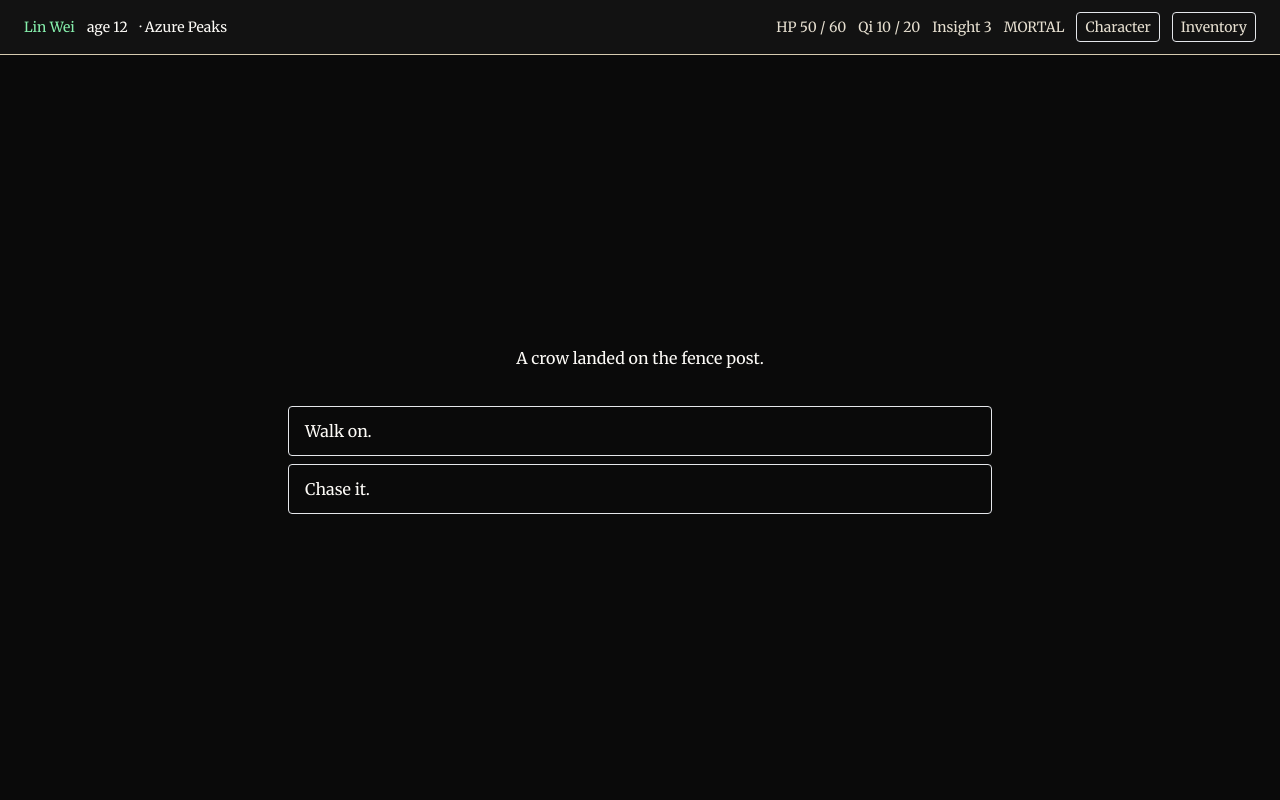
Scenario: Phase 2B-3: PlayScreen overlay toggles › toggles character sheet visibility via header button
Click the button "Character" at (1118, 27), box x1=1076 y1=12 x2=1160 y2=42
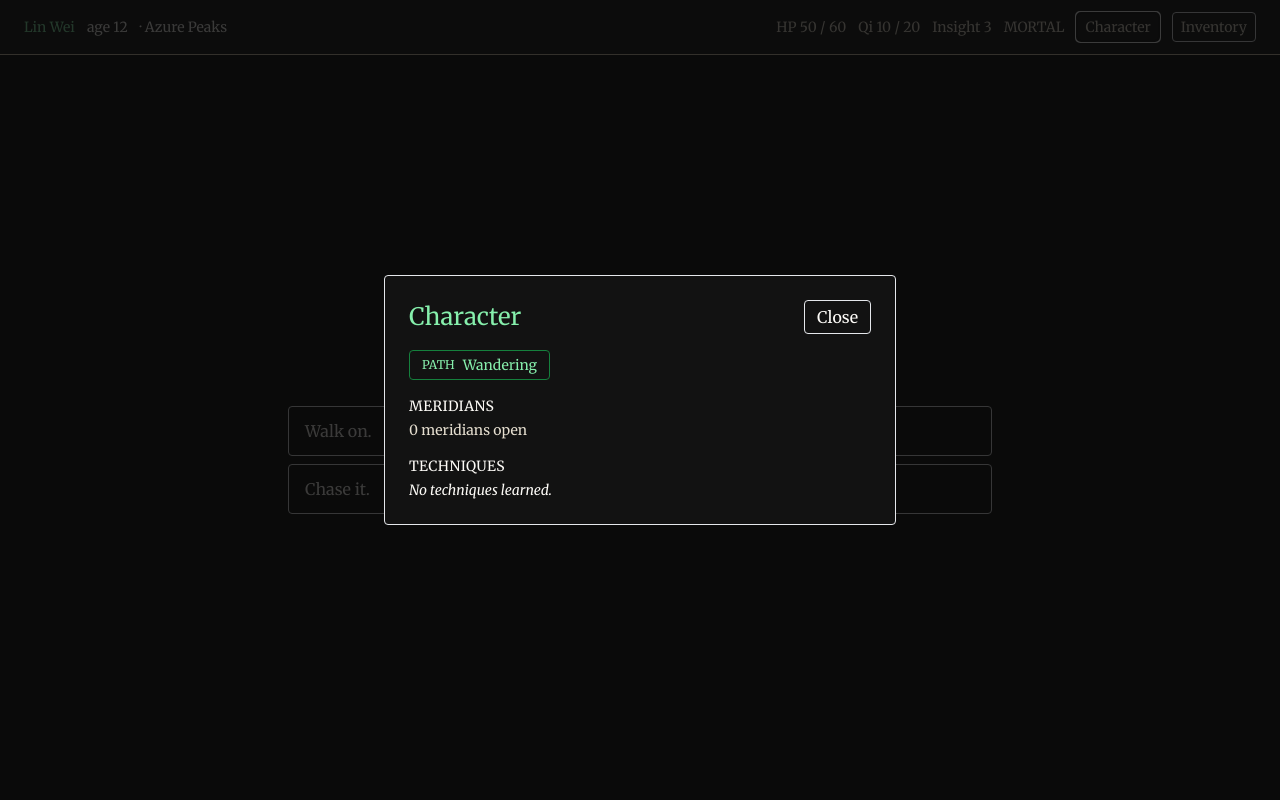
Expected: the heading "Character" is shown, x1=409 y1=301 x2=521 y2=333
